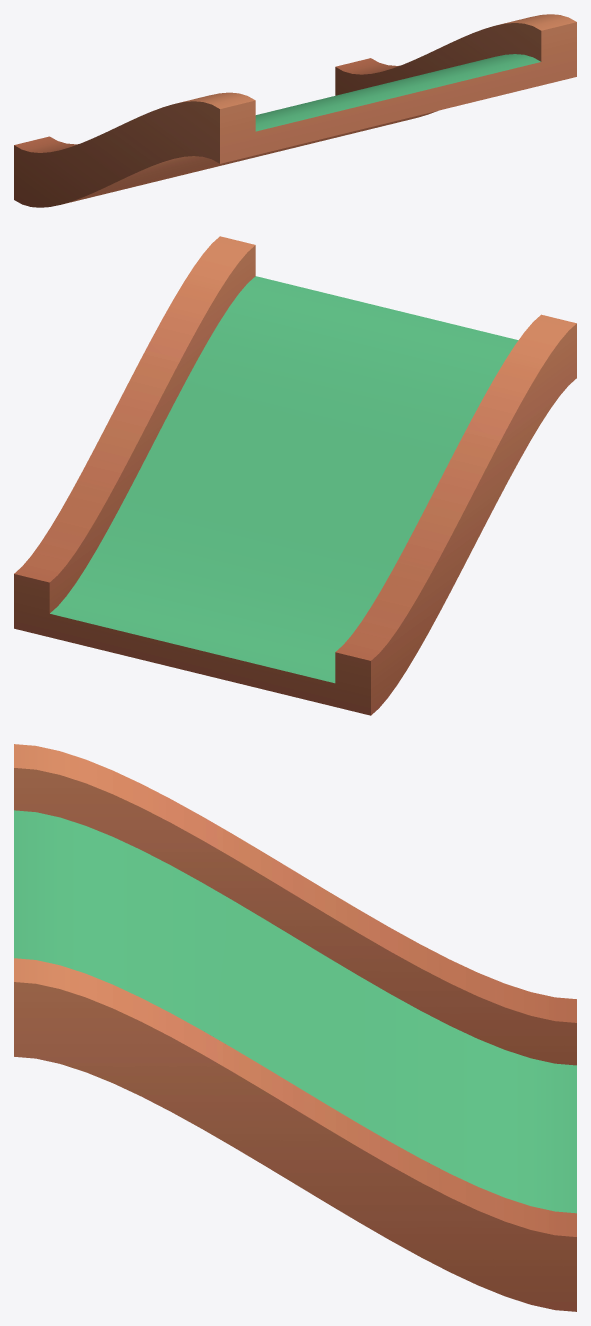
The model's file is ramp.glb.
3 renders of one model, top to bottom at view 1: azimuth 30°, elevation 25°; view 2: azimuth 150°, elevation 25°; view 3: azimuth 270°, elevation 25°, orthographic. The views are drawn at different scales.
Visible parts, largest first — view 1: ramp; view 2: ramp; view 3: ramp.
Boxes of the visible parts, bbox=[...] form: ramp: bbox=[14, 14, 576, 207]; ramp: bbox=[14, 236, 576, 715]; ramp: bbox=[14, 744, 576, 1311].
Bounding box in the file's own units: 0.9999 × 0.6466 × 0.9999.
Materials: 1 (1 with a texture image).
